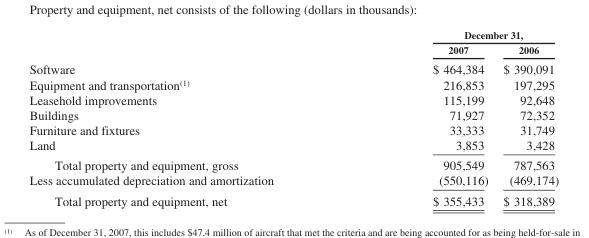table: (28, 28, 558, 207)
table column: (28, 28, 352, 207), (352, 28, 495, 207), (495, 28, 558, 207)
table column header: (28, 28, 558, 58)
table row: (28, 58, 558, 76), (28, 154, 558, 172), (28, 172, 558, 190), (28, 137, 558, 154), (28, 190, 558, 207), (28, 42, 558, 58), (28, 106, 558, 122), (28, 76, 558, 91), (28, 91, 558, 106), (28, 122, 558, 137), (28, 28, 558, 42)
table spanning cell: (352, 28, 558, 42)
